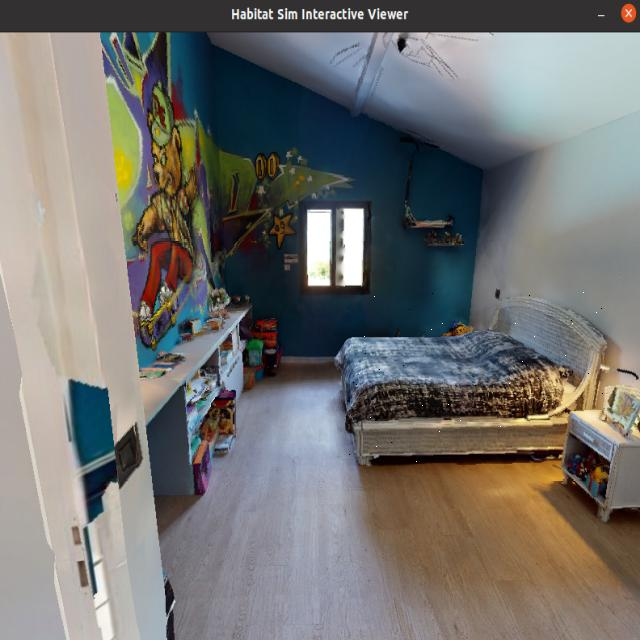bed: (341, 290, 604, 468)
